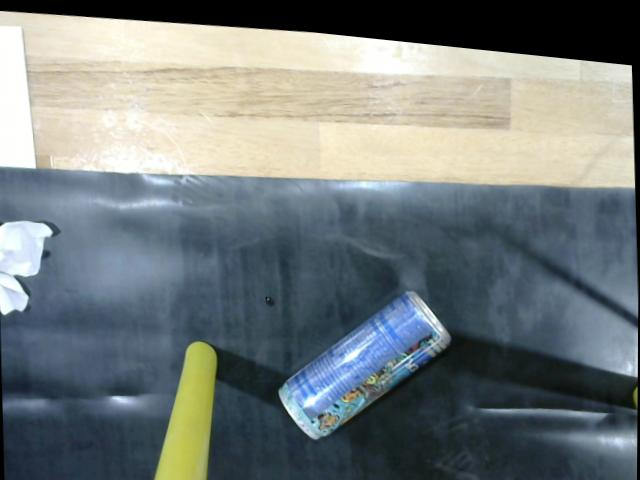can: (268, 269, 466, 438)
